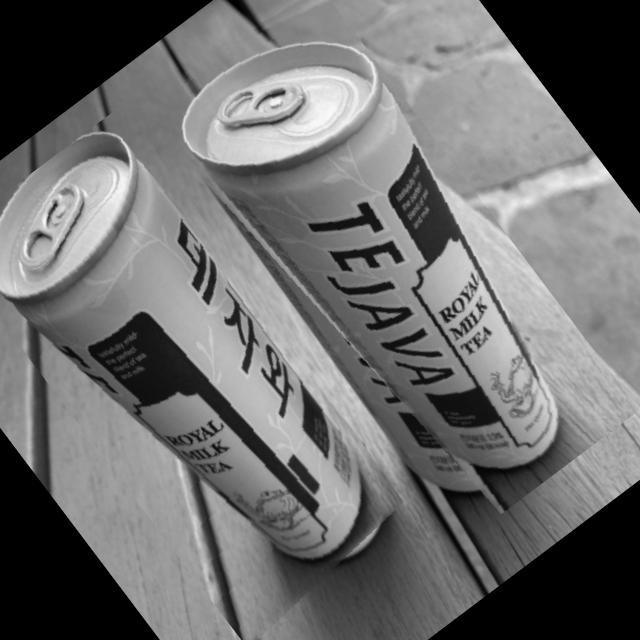Cans: (139, 0, 639, 540), (0, 104, 431, 640)
